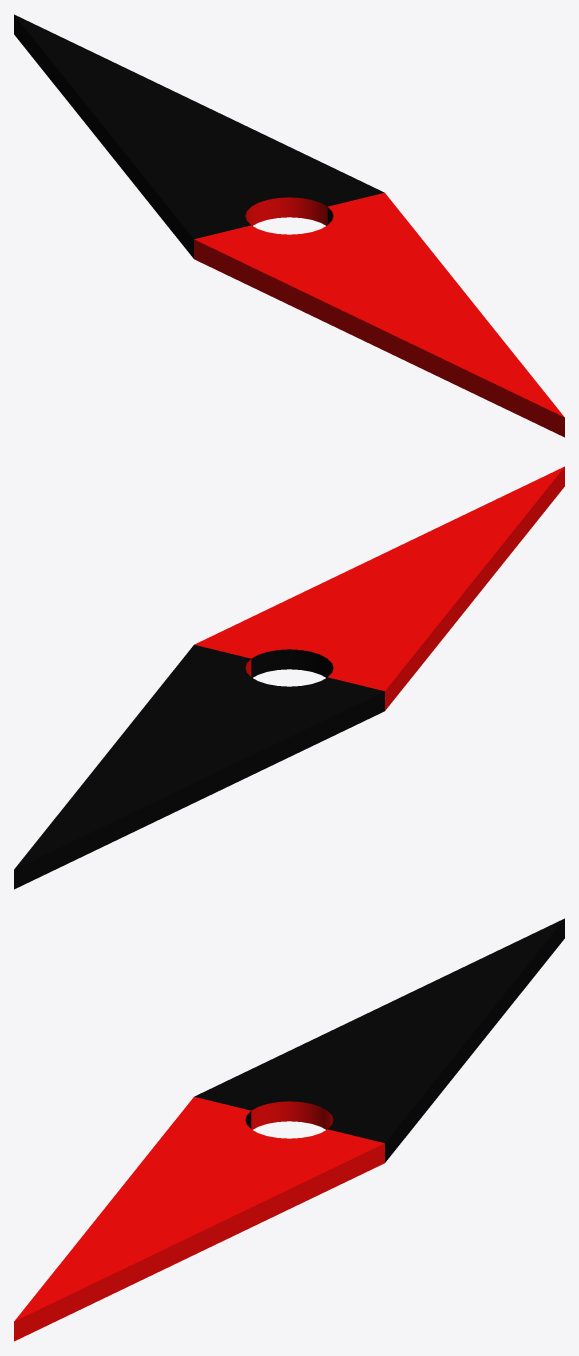
File: compass.dae
3 renders of one model, top to bottom at view 1: azimuth 30°, elevation 25°; view 2: azimuth 150°, elevation 25°; view 3: azimuth 330°, elevation 25°, orthographic.
Visible parts, largest first — view 1: SketchUp (×3); view 2: SketchUp (×3); view 3: SketchUp (×3).
Part boxes in pixels (x1=…): SketchUp (×3): x1=14, y1=14, x2=564, y2=437; SketchUp (×3): x1=14, y1=466, x2=564, y2=889; SketchUp (×3): x1=14, y1=918, x2=564, y2=1341.
Bounding box in the file's own units: 0.3937 × 1.97 × 0.0394.
